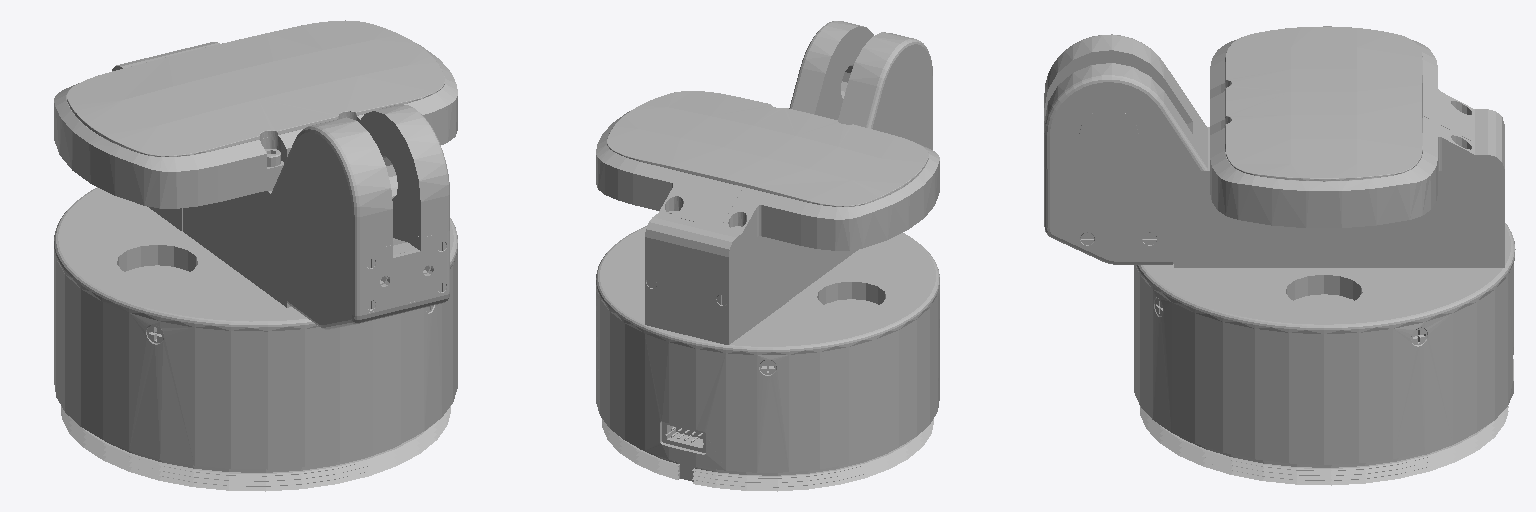
URDF robot description (root):
<?xml version='1.0' encoding='utf-8'?>
<robot name="root">
  <link name="link_001">
    <visual>
      <origin xyz="0 0 0" rpy="0 0 0" />
      <geometry>
        <mesh filename="fc3b5141a33c16514f9e6e7badc9ff0bd1d58f6ccdb5e904c48805e59e6ce066_scale_104.stl" scale="1.0000E+00 1.0000E+00 1.0000E+00" />
      </geometry>
      <material name="">
        <color rgba="7.50E-01 7.50E-01 7.50E-01 1" />
      </material>
    </visual>
    <collision>
      <origin xyz="0 0 0" rpy="0 0 0" />
      <geometry>
        <mesh filename="fc3b5141a33c16514f9e6e7badc9ff0bd1d58f6ccdb5e904c48805e59e6ce066_scale_104.stl" scale="1.0000E+00 1.0000E+00 1.0000E+00" />
      </geometry>
    </collision>
  </link>
</robot>

--- What the picture shows (computed from the rendered views, not written in the file) ---
The picture shows the robot from 3 angles, left to right: view 1: azimuth 30°, elevation 25°; view 2: azimuth 150°, elevation 25°; view 3: azimuth 270°, elevation 25°; orthographic projection.
Model root with 1 links and 0 joints (none), rooted at link_001, posed every joint at zero.
Links seen in each view (by area): view 1: link_001; view 2: link_001; view 3: link_001.
Boxes of the visible links, x1=… form: link_001: x1=54, y1=20, x2=457, y2=491; link_001: x1=596, y1=21, x2=939, y2=491; link_001: x1=1044, y1=26, x2=1515, y2=485.
Size in the robot's own frame: 0.0927 by 0.114 by 0.0941 metres.
Meshes: 1 distinct files referenced, 1 mesh visuals loaded (1 binary STL).
